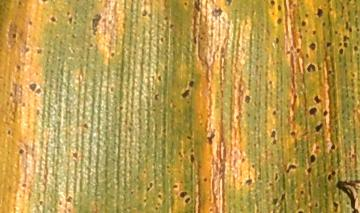tarspot: (335, 179, 358, 213), (89, 13, 102, 36), (210, 7, 223, 21), (306, 61, 317, 74), (205, 132, 216, 145), (313, 122, 324, 133), (285, 163, 297, 173), (180, 89, 191, 99), (308, 106, 318, 117), (315, 7, 325, 18), (144, 182, 154, 193), (313, 94, 322, 106), (179, 189, 189, 199), (270, 196, 280, 206), (193, 1, 202, 12), (308, 41, 317, 51), (324, 40, 334, 49), (48, 15, 58, 24), (188, 153, 197, 163), (64, 195, 74, 204), (66, 15, 74, 26), (272, 172, 280, 183), (245, 177, 253, 187), (243, 94, 251, 104), (275, 17, 283, 27), (29, 82, 37, 92), (269, 129, 277, 139), (71, 150, 79, 160), (153, 91, 161, 101), (309, 153, 316, 164), (274, 35, 281, 46), (187, 79, 195, 88), (351, 44, 359, 53), (184, 134, 193, 142), (35, 48, 44, 56), (116, 105, 125, 113), (20, 181, 28, 190), (158, 35, 165, 45), (271, 108, 278, 118), (313, 198, 320, 208), (320, 19, 327, 29), (183, 196, 191, 204), (34, 87, 42, 95), (300, 19, 308, 27), (17, 148, 25, 156), (294, 47, 302, 55), (7, 91, 15, 99), (305, 165, 312, 174), (331, 200, 338, 209), (329, 142, 336, 151), (82, 122, 89, 131), (156, 192, 163, 201), (14, 63, 21, 72), (38, 199, 45, 208), (34, 107, 41, 116), (156, 73, 162, 83), (154, 201, 160, 211), (109, 84, 115, 94), (330, 169, 337, 177), (338, 47, 345, 55), (342, 34, 349, 42), (289, 130, 297, 137), (298, 188, 306, 195), (168, 22, 175, 30), (163, 15, 170, 23), (87, 42, 95, 49), (302, 12, 310, 19), (280, 192, 286, 201), (57, 199, 63, 208), (141, 8, 146, 18), (239, 156, 246, 163), (171, 183, 179, 189), (322, 109, 328, 117), (276, 3, 282, 11), (342, 41, 348, 49), (311, 29, 317, 37), (10, 32, 18, 38), (27, 19, 33, 27), (202, 176, 208, 184), (297, 33, 303, 41), (249, 163, 257, 169), (107, 18, 113, 26), (327, 173, 332, 182), (223, 1, 232, 6), (348, 25, 353, 34), (183, 1, 189, 8), (267, 78, 273, 85), (326, 69, 332, 76), (110, 51, 115, 59), (6, 128, 11, 136), (269, 1, 275, 6), (355, 27, 360, 33), (296, 210, 304, 213), (326, 1, 332, 5), (39, 1, 49, 3), (17, 1, 22, 5)
